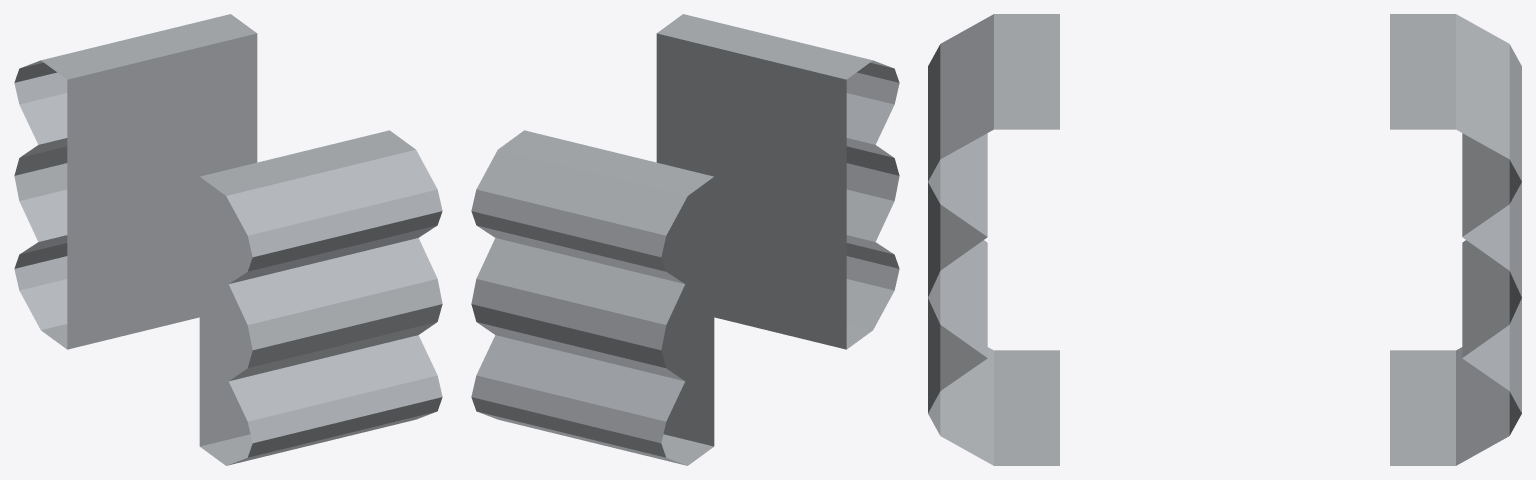
The model's file is guardrail_thrie_beam_wood_double_fill_flat.obj.
The picture shows the model from 3 angles, left to right: view 1: azimuth 30°, elevation 25°; view 2: azimuth 150°, elevation 25°; view 3: azimuth 270°, elevation 25°; orthographic projection. The views are drawn at different scales.
Parts seen in each view (by area): view 1: guardrail_thrie_beam_wood_double_fill_flat; view 2: guardrail_thrie_beam_wood_double_fill_flat; view 3: guardrail_thrie_beam_wood_double_fill_flat.
Part boxes in pixels (box(x1,y1,x2,y2)): guardrail_thrie_beam_wood_double_fill_flat: box(14, 14, 442, 465); guardrail_thrie_beam_wood_double_fill_flat: box(471, 14, 899, 465); guardrail_thrie_beam_wood_double_fill_flat: box(928, 14, 1521, 465).
Size of the model in its own units: 0.4142 by 0.5625 by 0.9.
